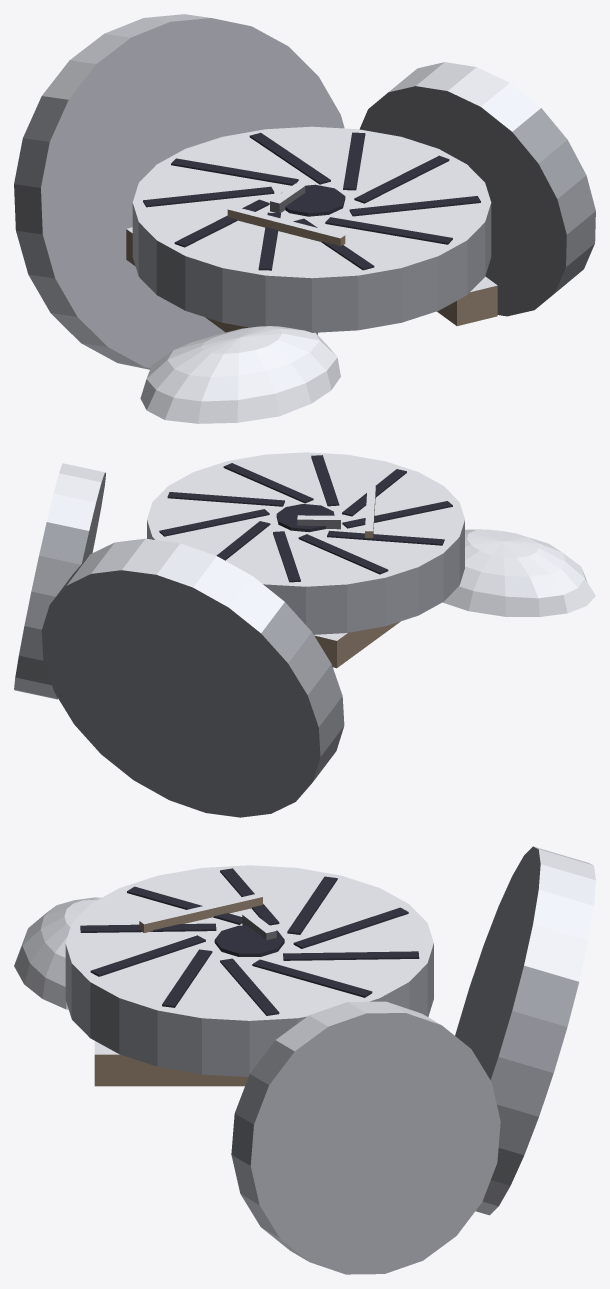
The model's file is PR_Mos_Encostadas.fbx.
3 renders of one model, top to bottom at view 1: azimuth 30°, elevation 25°; view 2: azimuth 150°, elevation 25°; view 3: azimuth 270°, elevation 25°, orthographic. The views are drawn at different scales.
Parts seen in each view (by area): view 1: PR_Mos_Encostadas; view 2: PR_Mos_Encostadas; view 3: PR_Mos_Encostadas.
Part boxes in pixels (x1,y1,x2,y2): PR_Mos_Encostadas: (14,14,595,423); PR_Mos_Encostadas: (14,452,595,817); PR_Mos_Encostadas: (14,846,595,1274).
Size of the model in its own units: 3.23 by 1.9 by 3.
